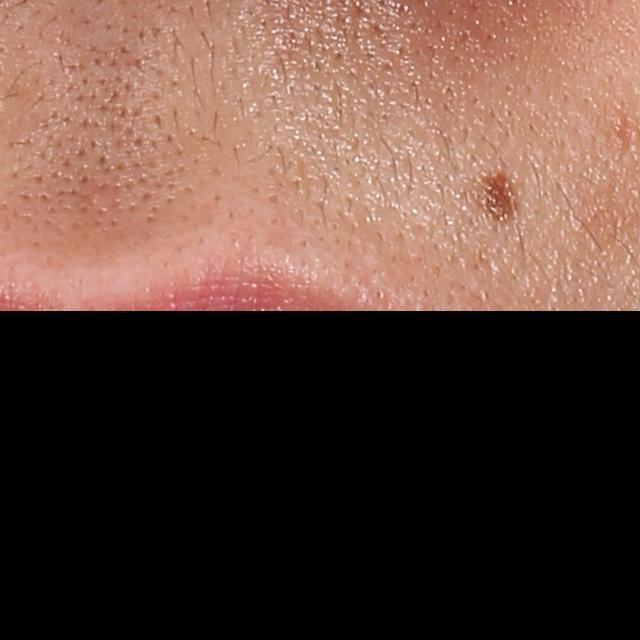nevus: (474, 171, 525, 222)
